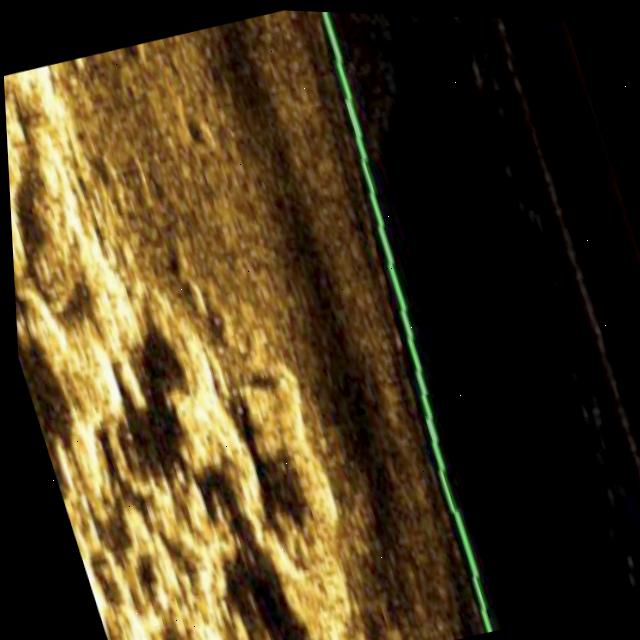bedrock group: (1, 25, 380, 640)
